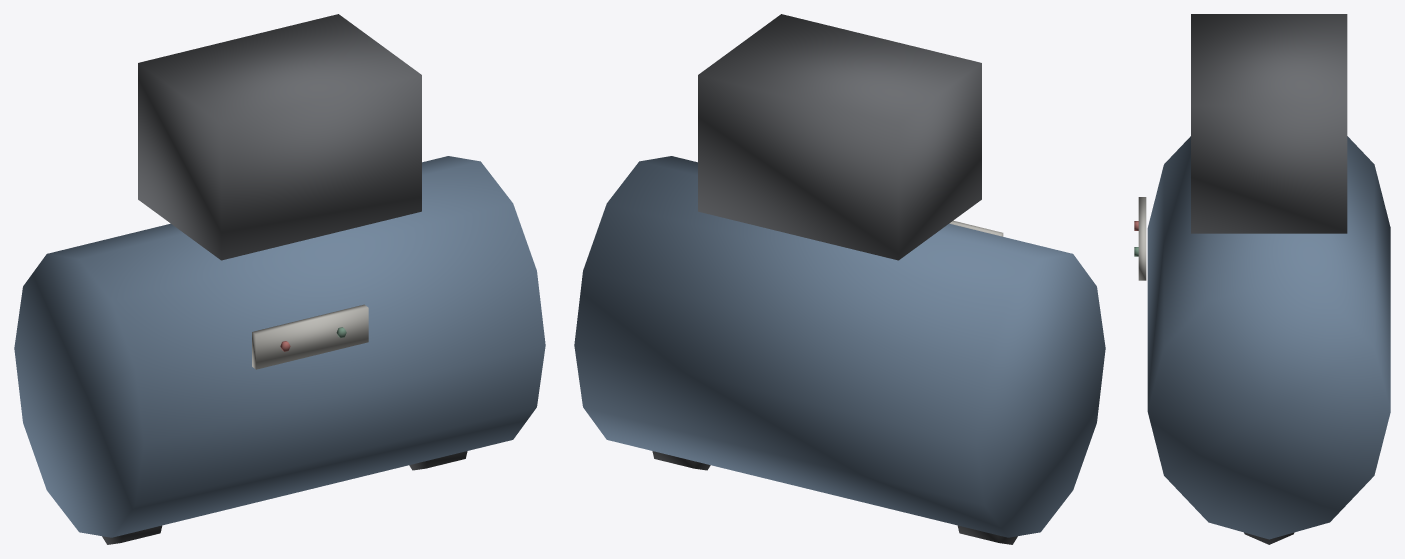
Rendered from air_compressor__tall.glb.
The picture shows the model from 3 angles, left to right: view 1: azimuth 30°, elevation 25°; view 2: azimuth 150°, elevation 25°; view 3: azimuth 270°, elevation 25°; orthographic projection. The views are drawn at different scales.
Parts seen in each view (by area): view 1: world; view 2: world; view 3: world.
Boxes of the visible parts, left/top/right/bottom form: world: left=14, top=14, right=545, bottom=544; world: left=574, top=14, right=1105, bottom=544; world: left=1134, top=14, right=1390, bottom=544.
Bounding box in the file's own units: 1 × 1.03 × 0.591.
